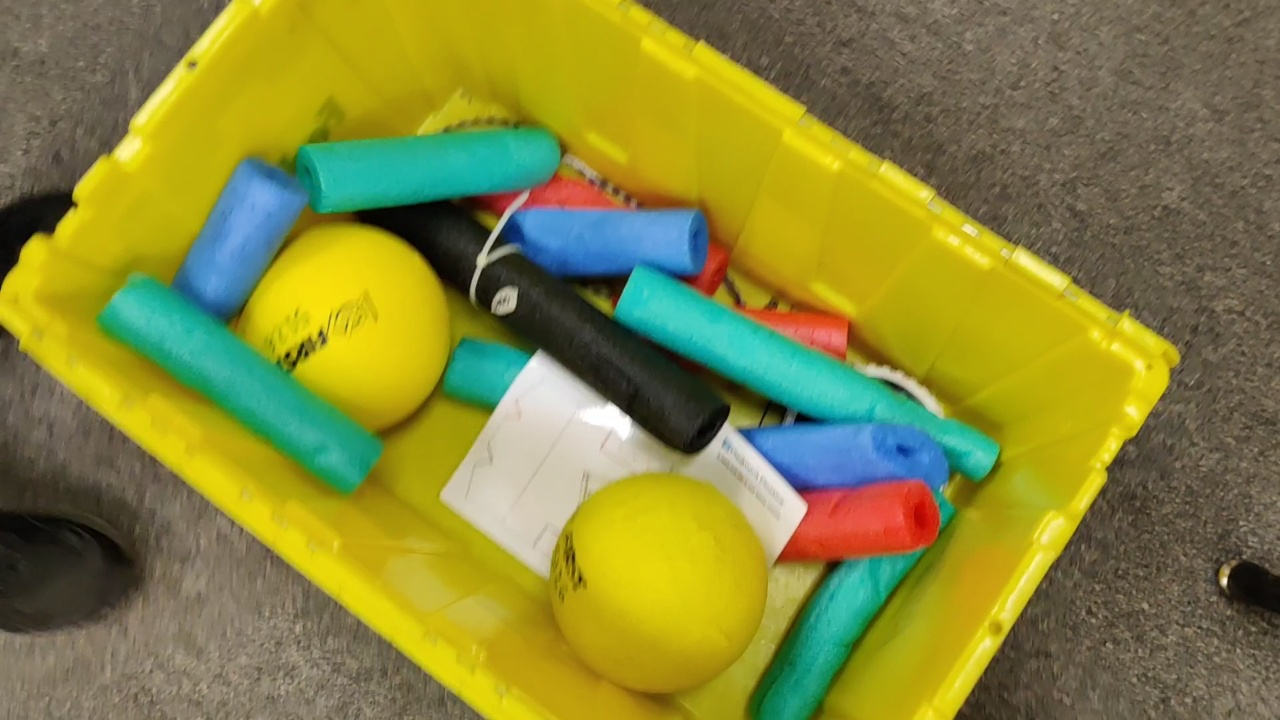Ball: (547, 473, 769, 698), (225, 225, 449, 435)
